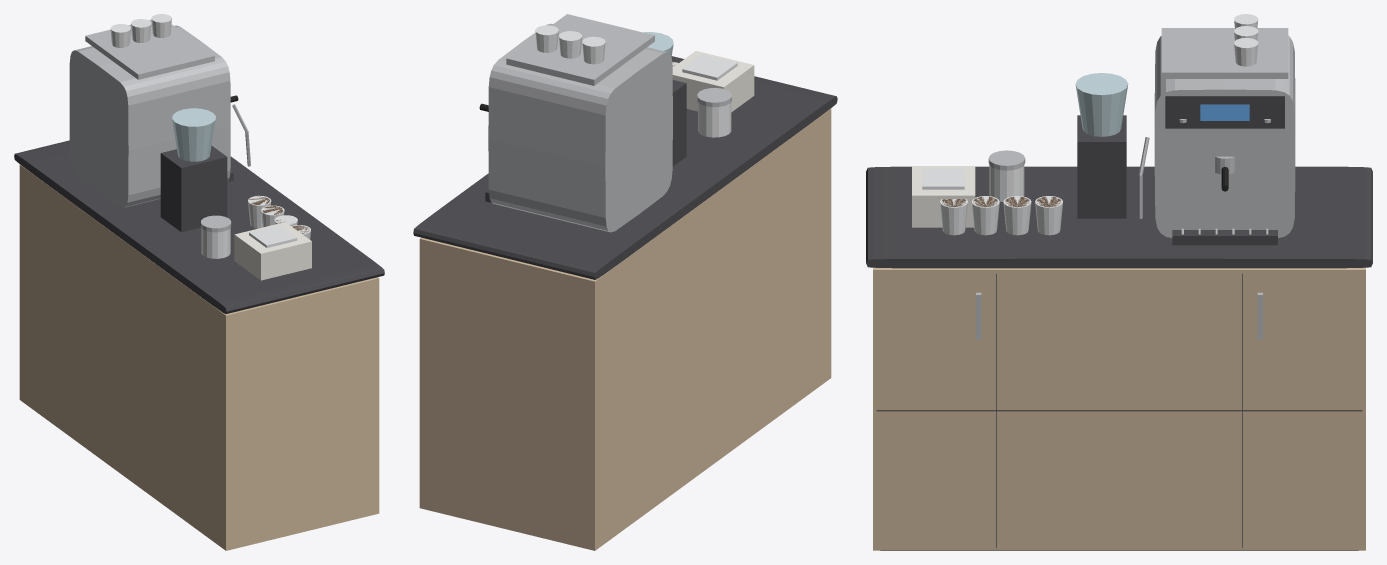
The model's file is SM_Prop_CoffeeMachine.fbx.
3 views of the same model, side by side, from view 1: azimuth 30°, elevation 25°; view 2: azimuth 150°, elevation 25°; view 3: azimuth 270°, elevation 25° (orthographic). The views are drawn at different scales.
Visible parts, largest first — view 1: SM_Prop_CoffeeMachine; view 2: SM_Prop_CoffeeMachine; view 3: SM_Prop_CoffeeMachine.
Part boxes in pixels (<box>): SM_Prop_CoffeeMachine: <box>14,14,384,550</box>; SM_Prop_CoffeeMachine: <box>413,14,837,550</box>; SM_Prop_CoffeeMachine: <box>866,14,1372,550</box>.
Bounding box in the file's own units: 1.44 × 0.63 × 1.49.
